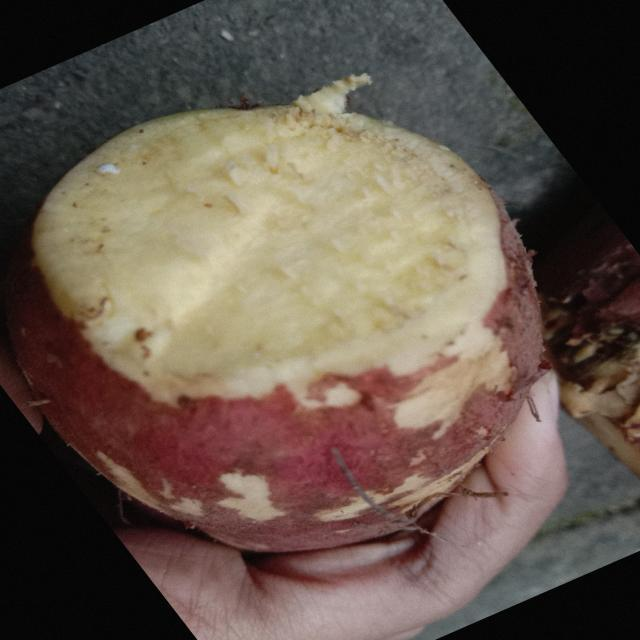Healthy Sweet Potato: (32, 78, 507, 404)
